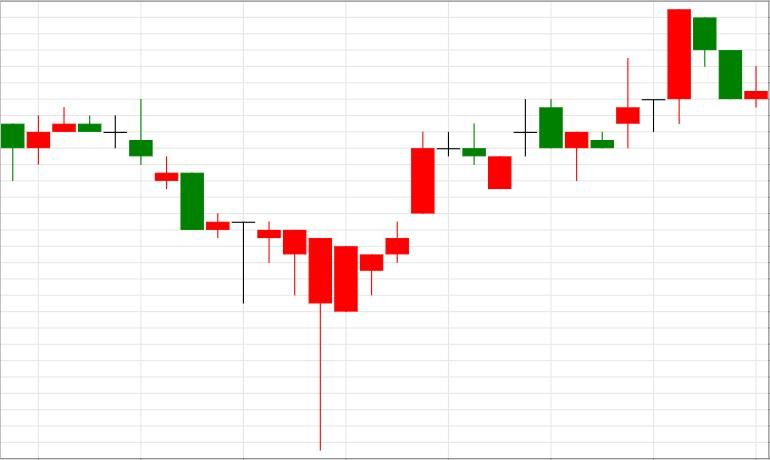hammer_rise: (129, 97, 331, 451), (130, 98, 307, 304)
